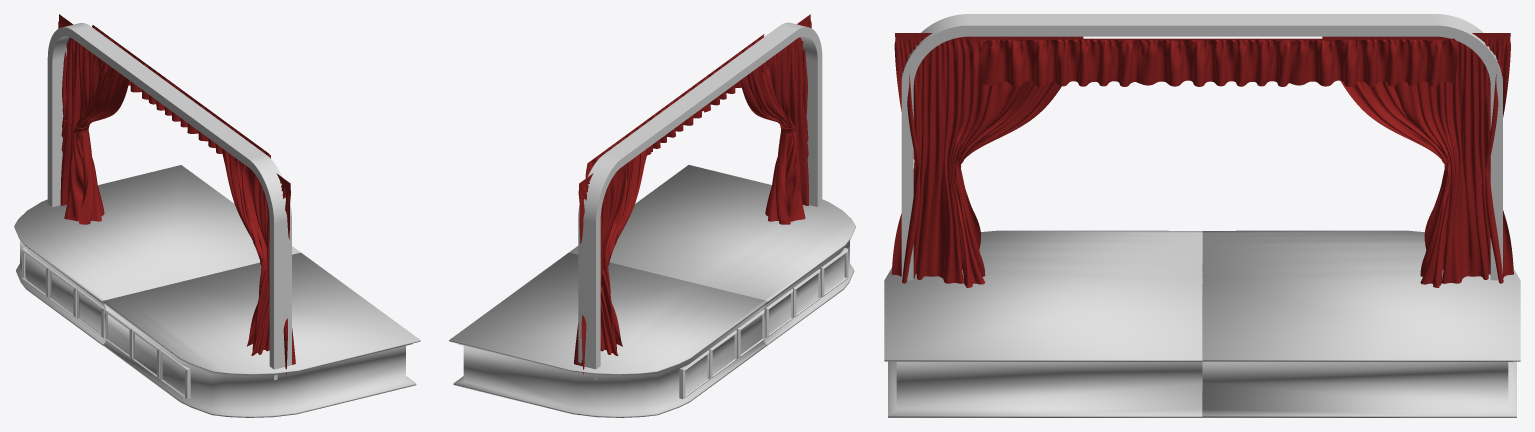
The model's file is Stage_1.fbx.
3 views of the same model, side by side, from view 1: azimuth 30°, elevation 25°; view 2: azimuth 150°, elevation 25°; view 3: azimuth 270°, elevation 25° (orthographic). The views are drawn at different scales.
Visible parts, largest first — view 1: Cube.008, Cube.007, Cube, Сurtain tied.001, Сurtain tied, Сurtain.001, Cube.003, Cube.002, Сurtain.002; view 2: Cube.007, Cube.008, Cube, Сurtain tied, Сurtain tied.001, Сurtain.001, Сurtain, Cube.002, Cube.003; view 3: Cube.007, Cube.008, Сurtain tied, Сurtain tied.001, Cube, Сurtain.002, Сurtain, Сurtain.001.
Boxes of the visible parts, <box> form: Cube.008: <box>102,252,420,417</box>; Cube.007: <box>14,165,300,345</box>; Cube: <box>47,23,291,380</box>; Сurtain tied.001: <box>58,14,129,224</box>; Сurtain tied: <box>221,147,295,374</box>; Сurtain.001: <box>148,67,210,141</box>; Cube.003: <box>160,350,190,399</box>; Cube.002: <box>22,248,49,297</box>; Сurtain.002: <box>92,25,153,104</box>; Cube.007: <box>449,252,767,417</box>; Cube.008: <box>569,165,855,345</box>; Cube: <box>578,22,822,379</box>; Сurtain tied: <box>740,14,811,224</box>; Сurtain tied.001: <box>574,147,648,374</box>; Сurtain.001: <box>644,78,704,155</box>; Сurtain: <box>703,34,764,112</box>; Cube.002: <box>679,350,709,399</box>; Cube.003: <box>820,248,848,297</box>; Cube.007: <box>1202,230,1520,417</box>; Cube.008: <box>884,230,1202,417</box>; Сurtain tied: <box>891,33,1083,287</box>; Сurtain tied.001: <box>1322,33,1513,287</box>; Cube: <box>901,14,1502,280</box>; Сurtain.002: <box>1289,38,1457,86</box>; Сurtain: <box>978,38,1148,86</box>; Сurtain.001: <box>1136,38,1304,86</box>.
Bounding box in the file's own units: 2277 × 2593 × 4749.
